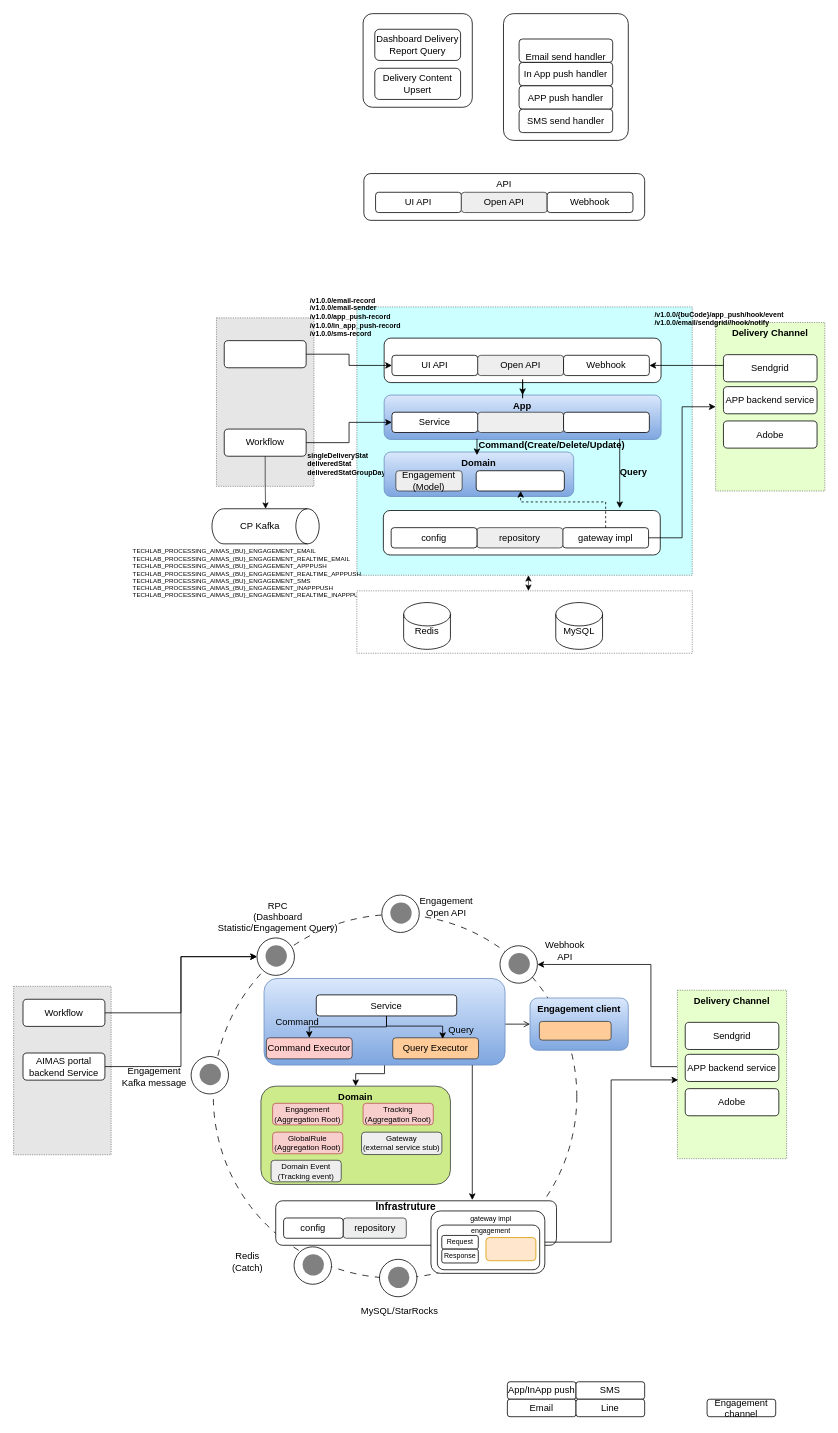
Image size: 838x1433. Some labels were removed from this diagram. Each missing label, with the box of its shape:
Adapter: (383, 337, 661, 383)
AIMAS portal: (223, 340, 306, 368)
Application Service: (263, 978, 505, 1065)
Connector (https/sftp/rpc): (485, 1237, 536, 1261)
Data layer: (356, 590, 692, 653)
Delivery Handler: (503, 13, 628, 140)
Dubbo service stub: (539, 1021, 611, 1040)
Engagement Service: (356, 306, 692, 575)
Executor(Job): (563, 411, 649, 433)
Infrastructure: (383, 510, 660, 555)
Listener(Kafka): (477, 411, 564, 433)
other servcie rpc (gateway): (475, 470, 564, 491)
RPC: (362, 13, 472, 107)
